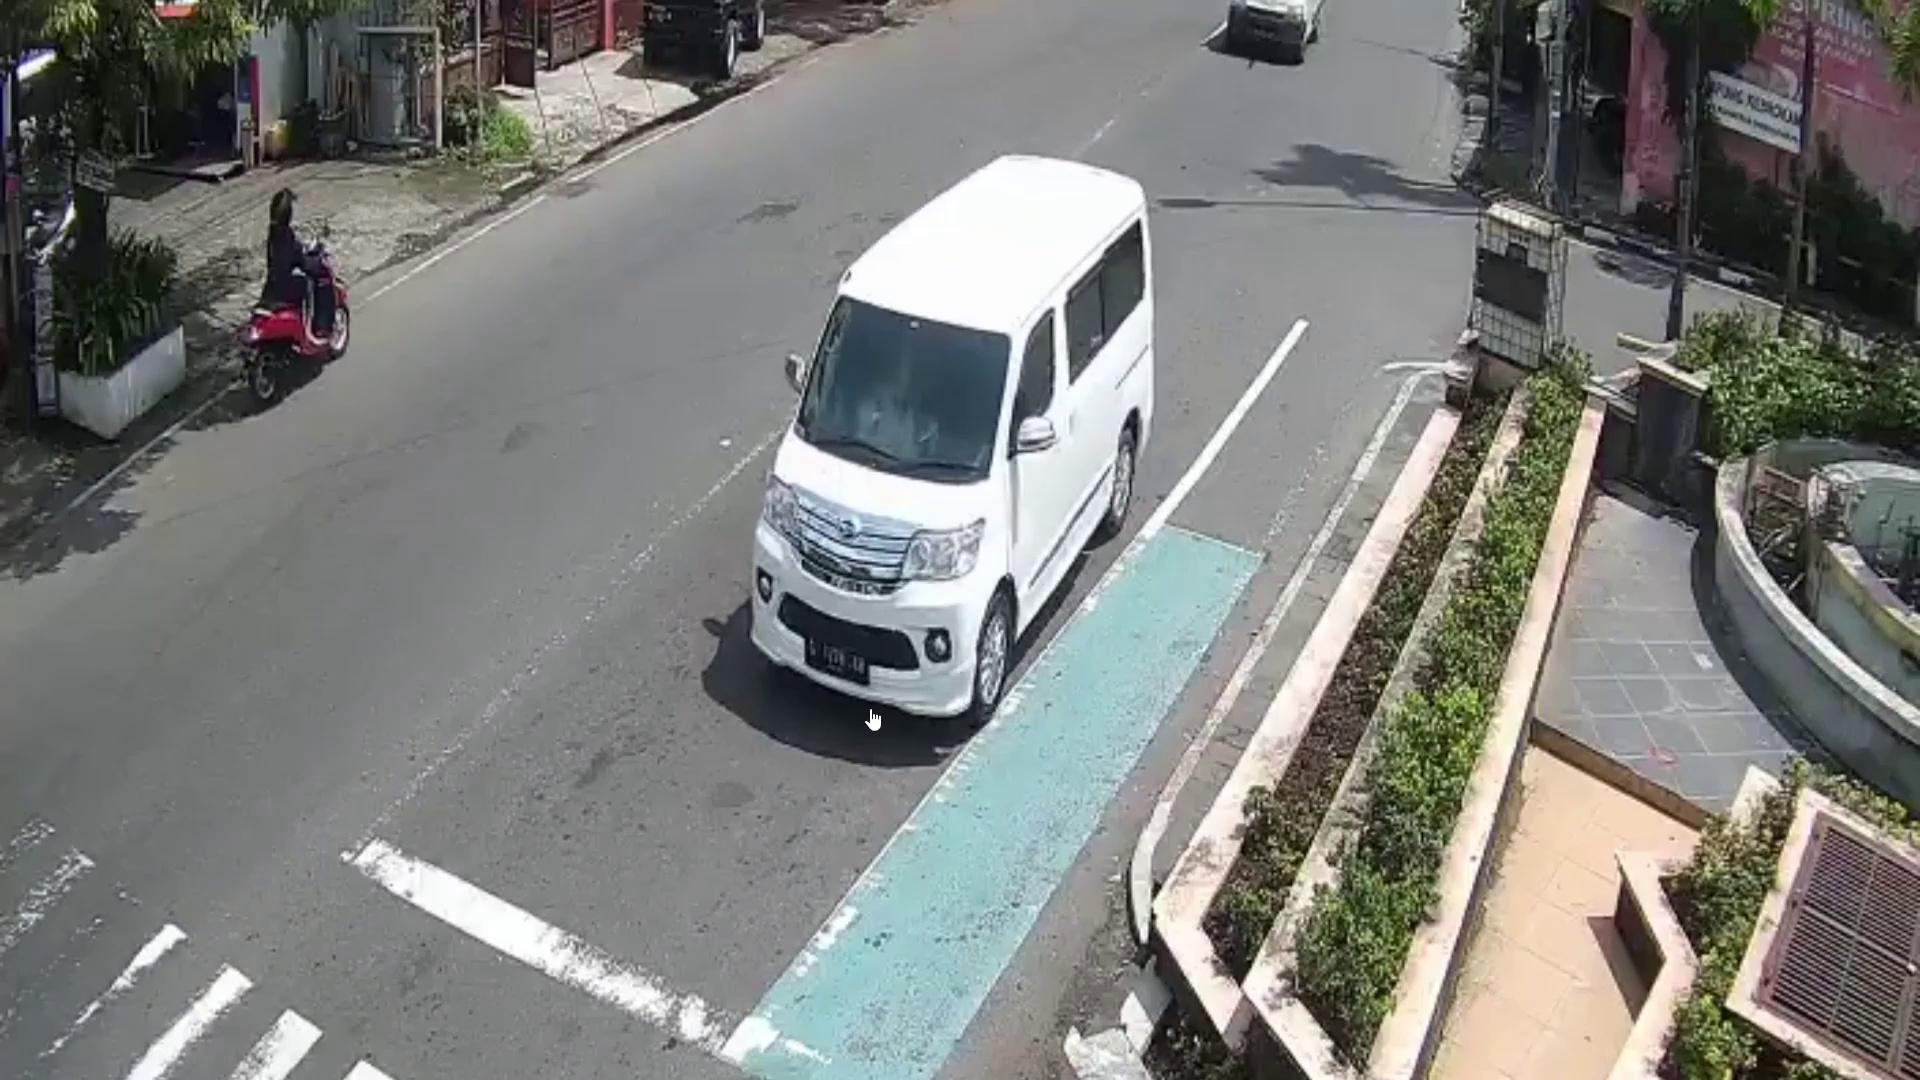car: (749, 145, 1154, 731)
motorbike: (240, 225, 348, 411)
